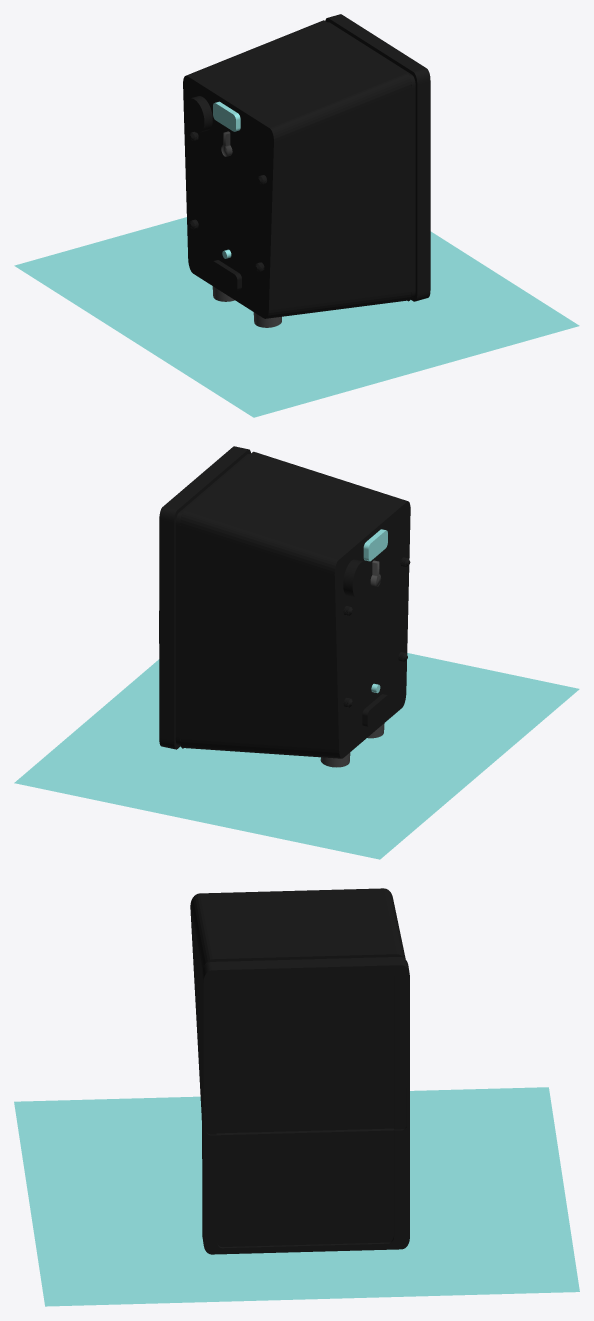
File: Abocina.glb
3 renders of one model, top to bottom at view 1: azimuth 30°, elevation 25°; view 2: azimuth 150°, elevation 25°; view 3: azimuth 270°, elevation 25°, orthographic. The views are drawn at different scales.
Parts seen in each view (by area): view 1: Cubo.003; view 2: Cubo.003; view 3: Cubo.003.
Boxes of the visible parts, bbox=[...] form: Cubo.003: bbox=[14, 14, 579, 417]; Cubo.003: bbox=[14, 446, 579, 859]; Cubo.003: bbox=[14, 888, 579, 1306].
Bounding box in the file's own units: 5.07 × 3.06 × 5.53.
